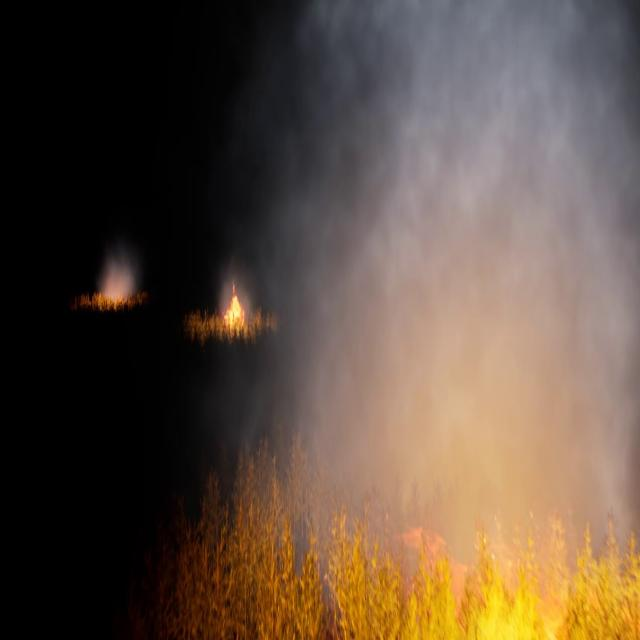fire: (176, 447, 640, 638), (222, 282, 249, 329)
smoke: (232, 0, 640, 553), (216, 260, 257, 321), (99, 250, 138, 302)
